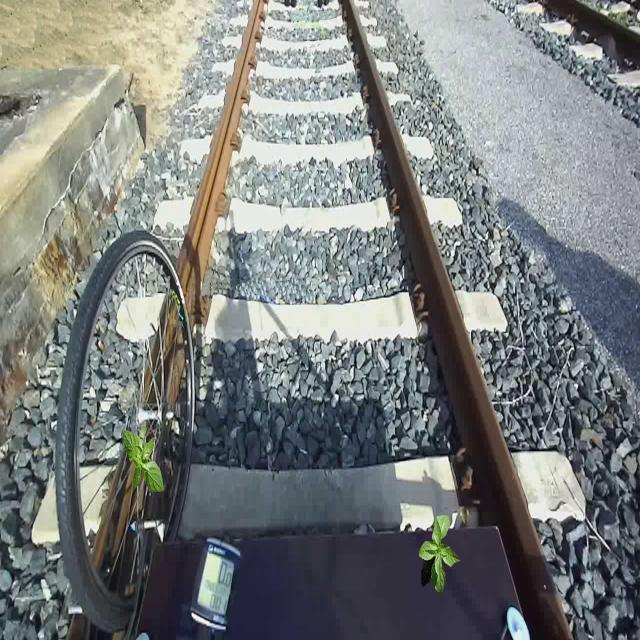Plant: (419, 515, 461, 595), (123, 424, 164, 495)
